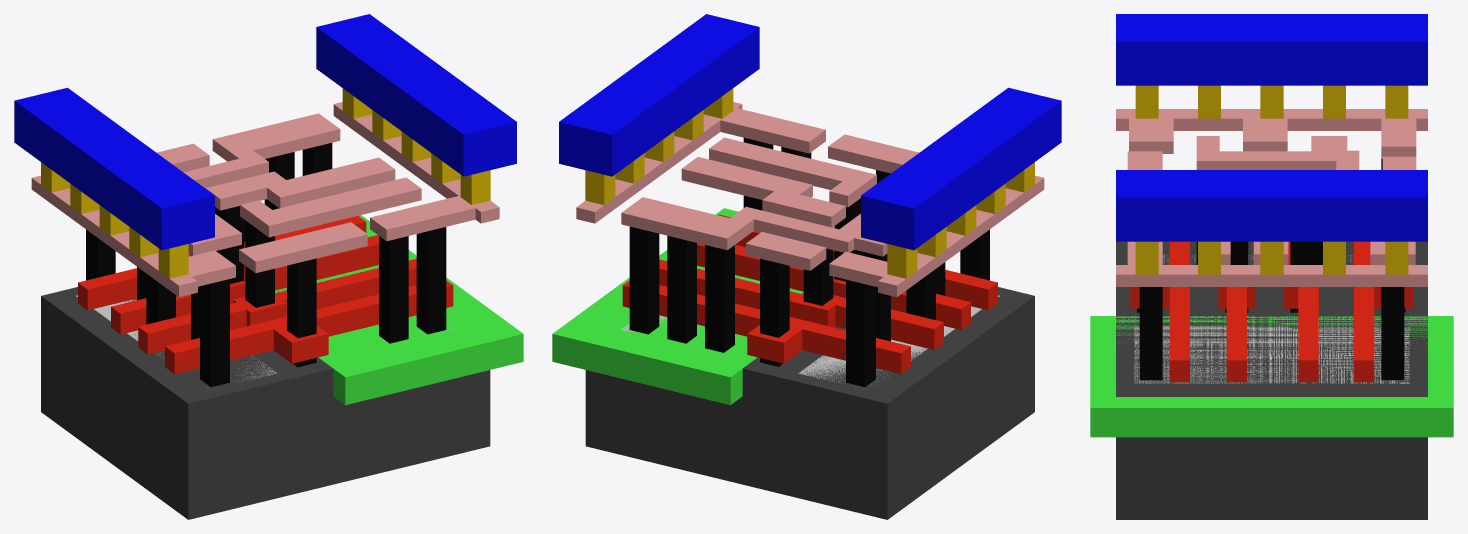
The model's file is sky130_fd_sc_hd__nor4_1.obj.
The picture shows the model from 3 angles, left to right: view 1: azimuth 30°, elevation 25°; view 2: azimuth 150°, elevation 25°; view 3: azimuth 270°, elevation 25°; orthographic projection. The views are drawn at different scales.
Visible parts, largest first — view 1: subs, metal1, li, licon, poly, nwell, mcon; view 2: subs, metal1, li, licon, poly, nwell, mcon, diff; view 3: subs, metal1, li, nwell, poly, mcon, tap, licon.
Part boxes in pixels (x1,y1,x2,y2): subs: [41, 268, 490, 519]; metal1: [14, 14, 516, 250]; li: [31, 102, 499, 297]; licon: [86, 143, 446, 387]; poly: [78, 216, 453, 373]; nwell: [275, 215, 523, 405]; mcon: [41, 88, 490, 278]; subs: [585, 287, 1034, 519]; metal1: [559, 14, 1061, 250]; li: [576, 102, 1044, 297]; licon: [629, 137, 989, 387]; poly: [622, 214, 997, 373]; nwell: [552, 208, 803, 405]; mcon: [585, 88, 1034, 278]; diff: [798, 295, 999, 382]; subs: [1116, 241, 1427, 519]; metal1: [1116, 14, 1427, 241]; li: [1116, 109, 1427, 286]; nwell: [1090, 316, 1453, 437]; poly: [1130, 241, 1413, 382]; mcon: [1135, 85, 1408, 274]; tap: [1134, 326, 1409, 383]; licon: [1137, 159, 1405, 380].
Bounding box in the file's own units: 3.2 × 2.74 × 2.68.
